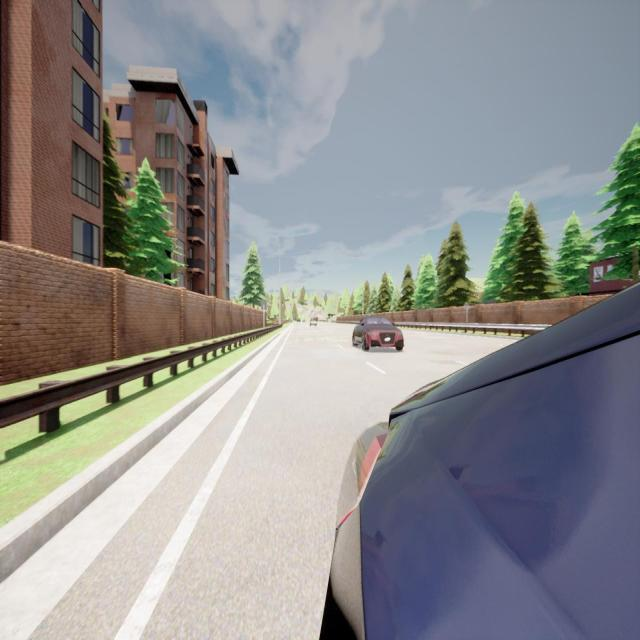Traffic_Signs: (261, 300, 267, 310)
Vehicle: (322, 283, 640, 638), (352, 317, 405, 352), (310, 318, 316, 326), (296, 318, 300, 324)
